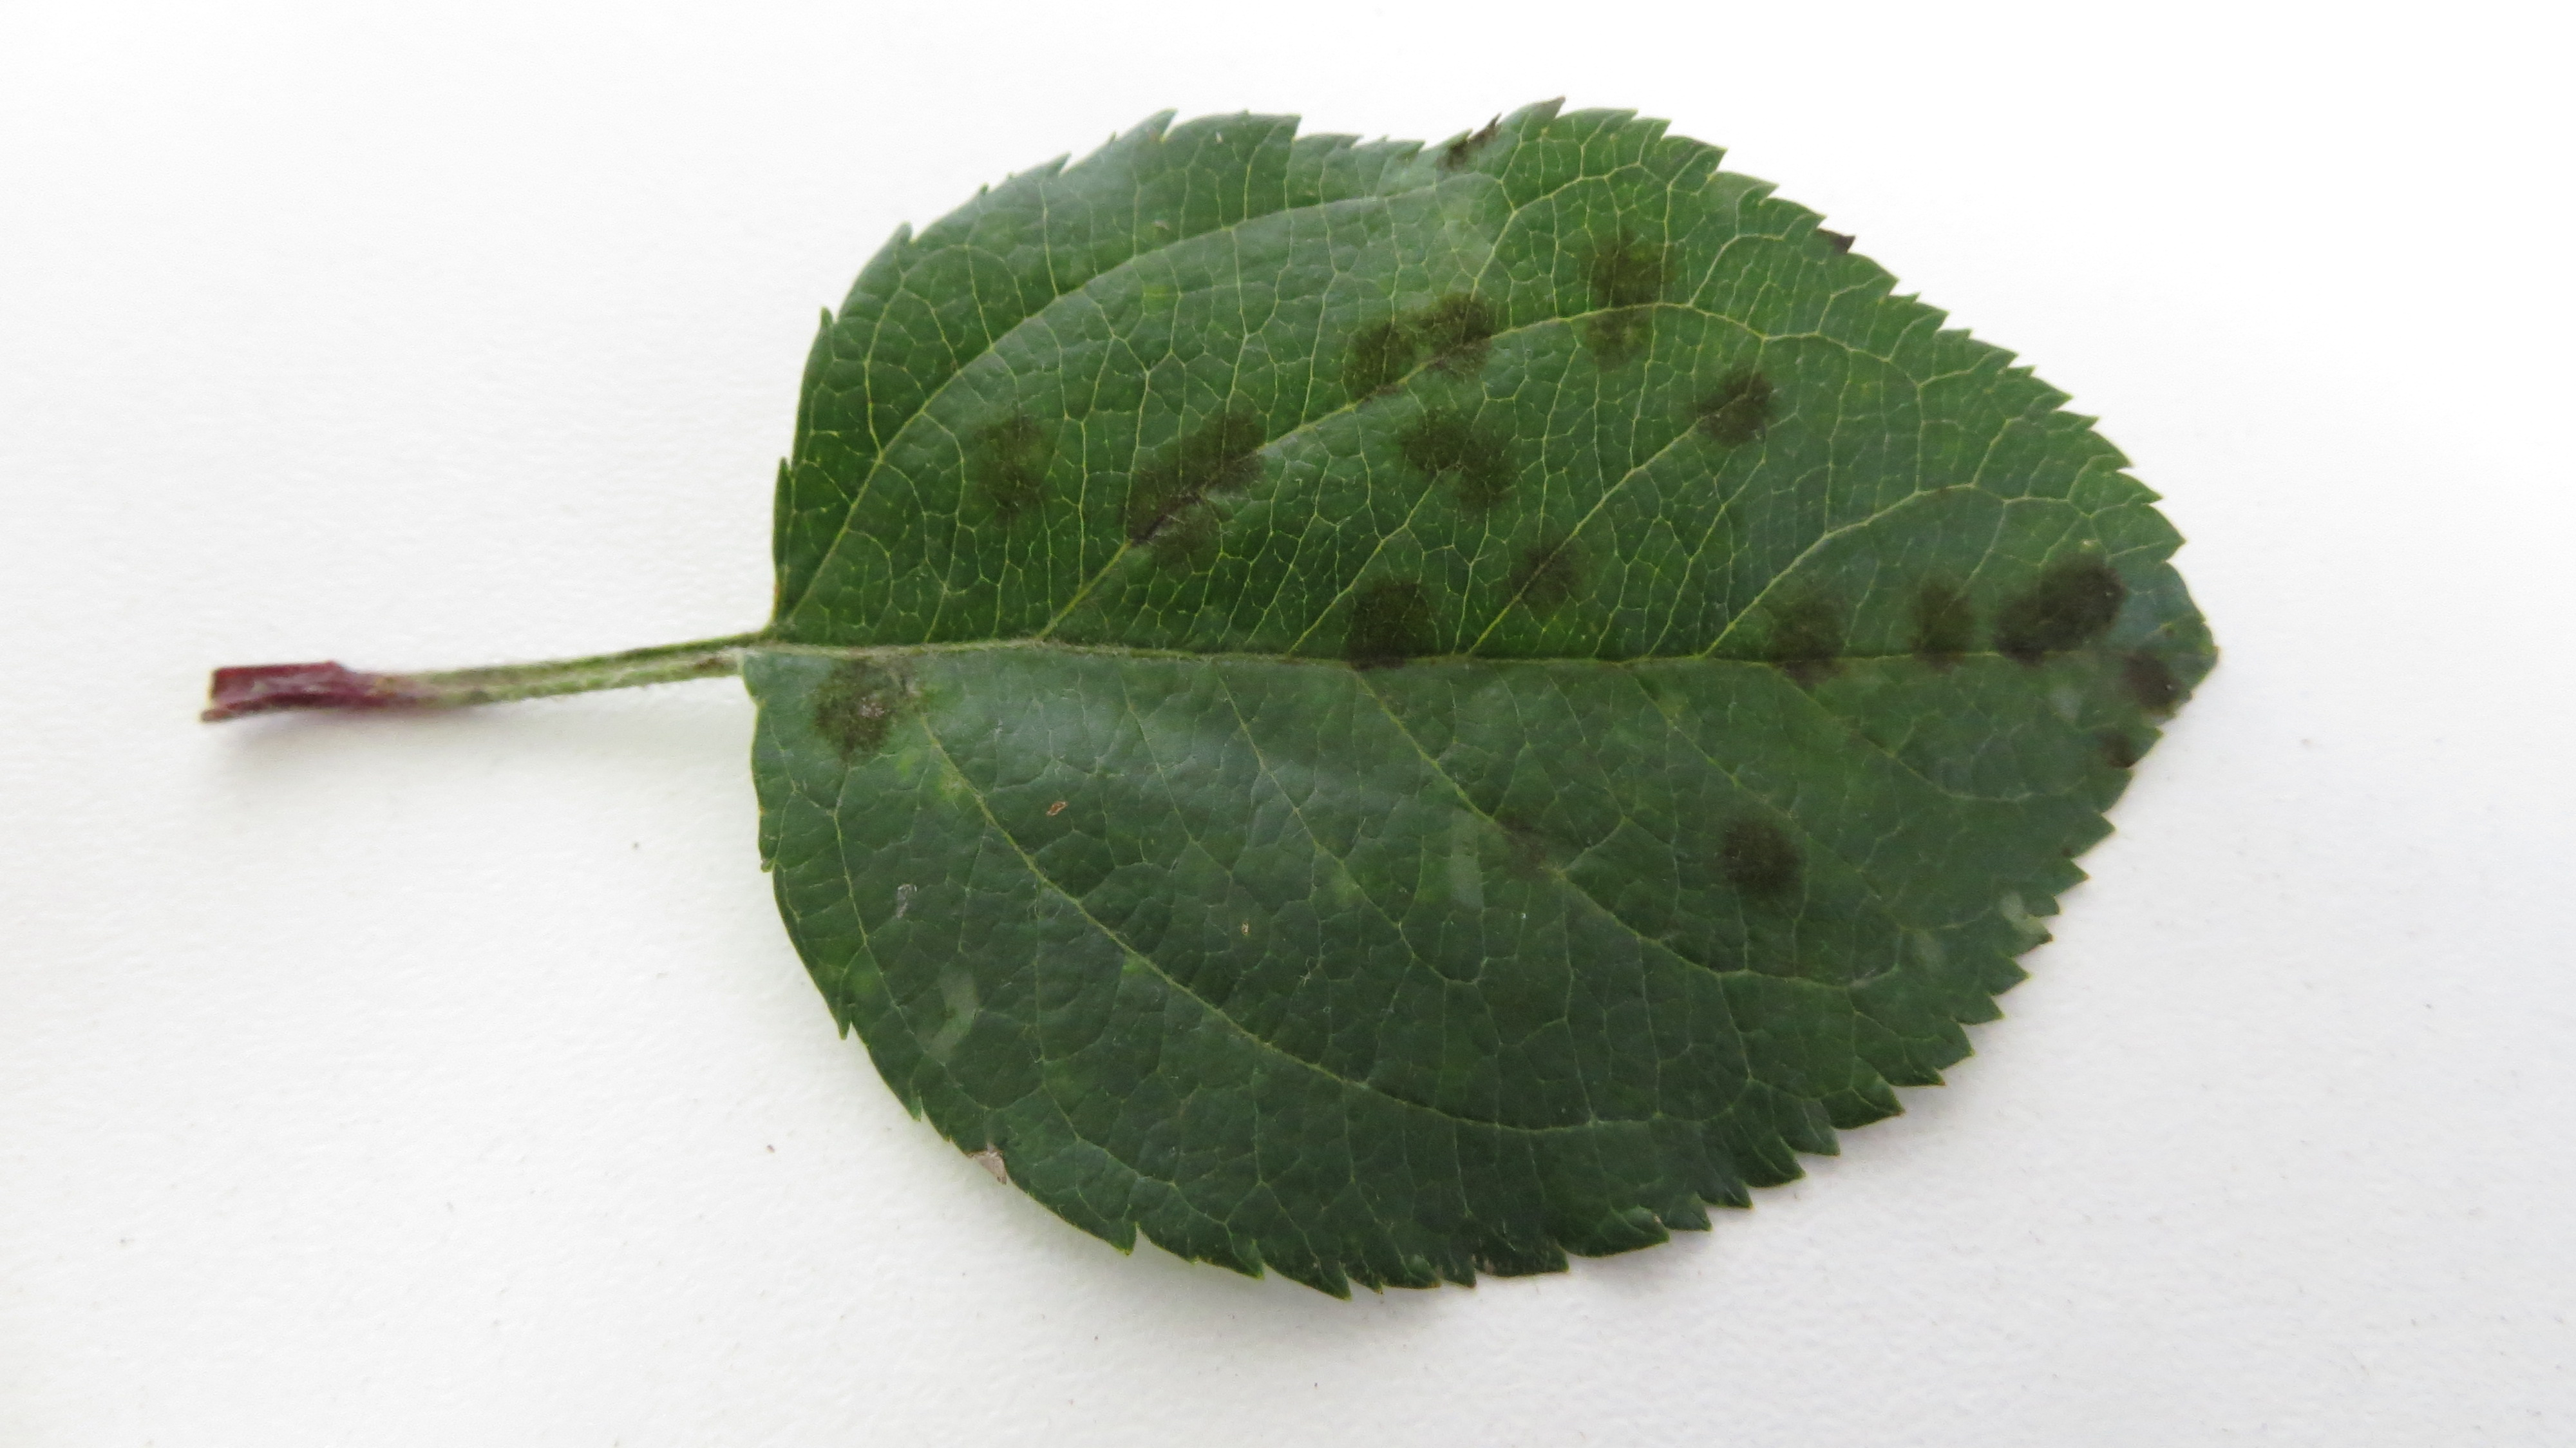sarna: (798, 651, 925, 768), (1329, 566, 1444, 683), (1399, 407, 1522, 515), (1675, 358, 1782, 469), (1100, 478, 1224, 572), (1886, 570, 1983, 682), (1585, 221, 1691, 320), (1169, 397, 1272, 497), (1764, 586, 1854, 697), (1410, 280, 1502, 386), (1497, 529, 1598, 625), (975, 407, 1051, 533), (1987, 586, 2074, 678), (1716, 813, 1803, 901), (1323, 308, 1408, 398), (2049, 547, 2123, 644), (1491, 782, 1557, 892), (2109, 646, 2192, 728), (1569, 304, 1649, 381), (2084, 717, 2153, 786)
